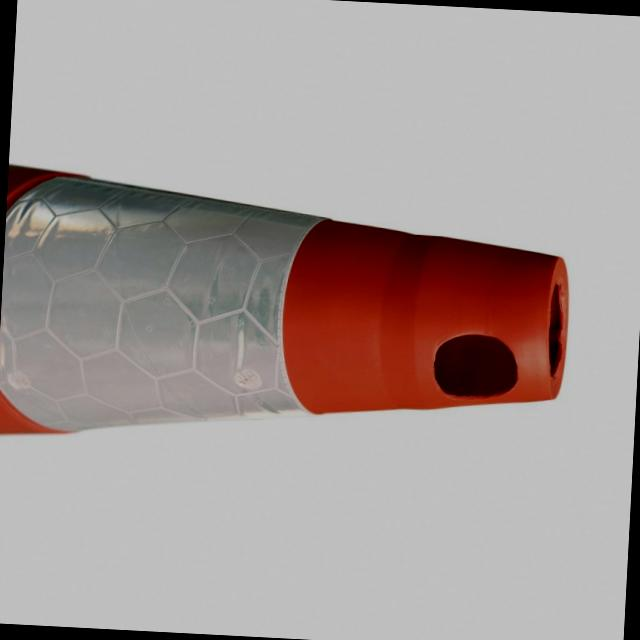cone: (4, 156, 572, 471)
